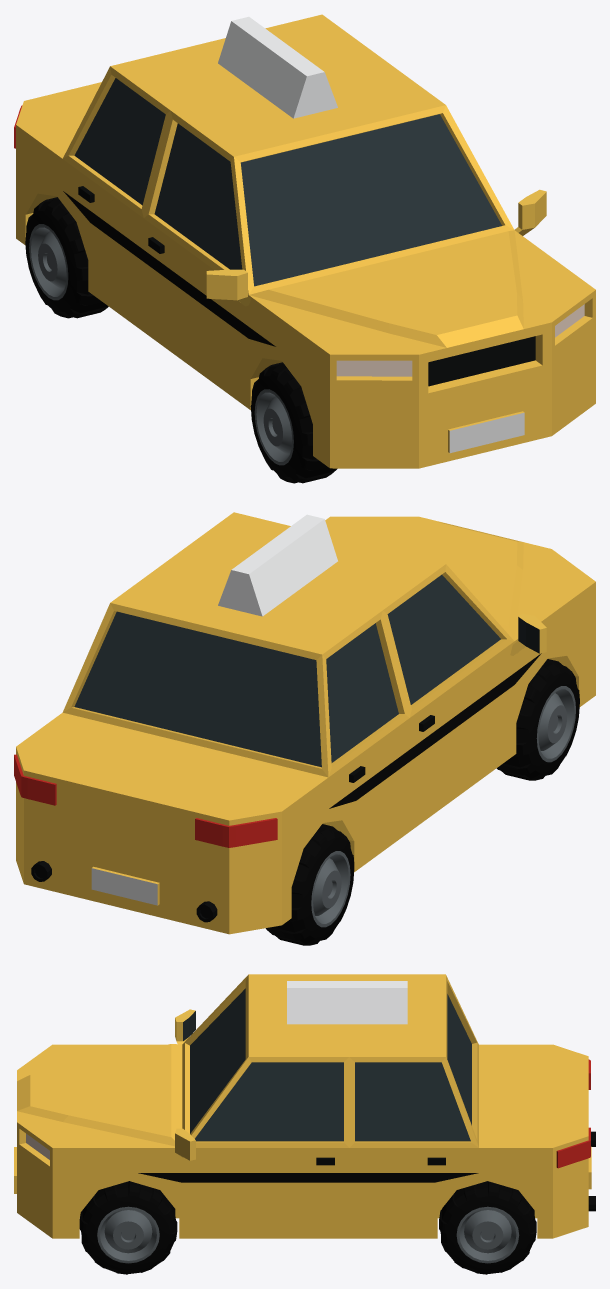
The model's file is TAXI.fbx.
3 renders of one model, top to bottom at view 1: azimuth 30°, elevation 25°; view 2: azimuth 150°, elevation 25°; view 3: azimuth 270°, elevation 25°, orthographic. The views are drawn at different scales.
Parts seen in each view (by area): view 1: FrontWheel_R.002; view 2: FrontWheel_R.002; view 3: FrontWheel_R.002.
Part boxes in pixels (left/top/right/bottom): FrontWheel_R.002: left=14, top=14, right=595, bottom=483; FrontWheel_R.002: left=14, top=512, right=595, bottom=945; FrontWheel_R.002: left=14, top=974, right=595, bottom=1274.
Size of the model in its own units: 422 by 785 by 357.
Materials: 2 (2 with a texture image).
